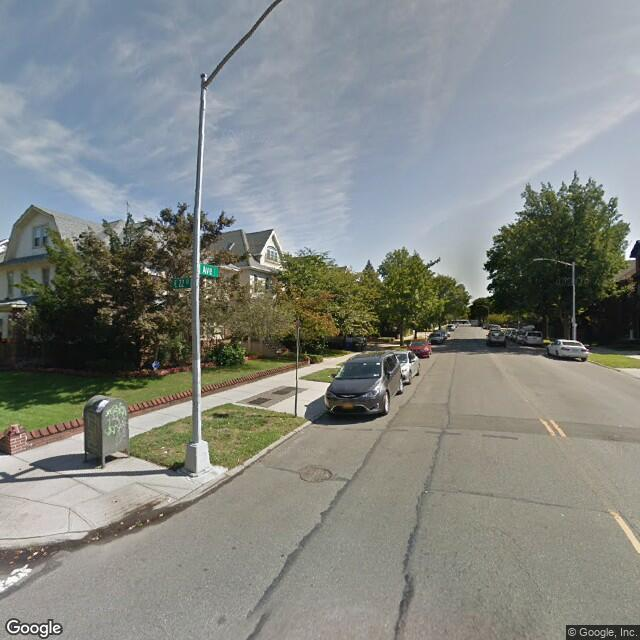litter: (161, 450, 169, 457), (159, 444, 165, 450)
